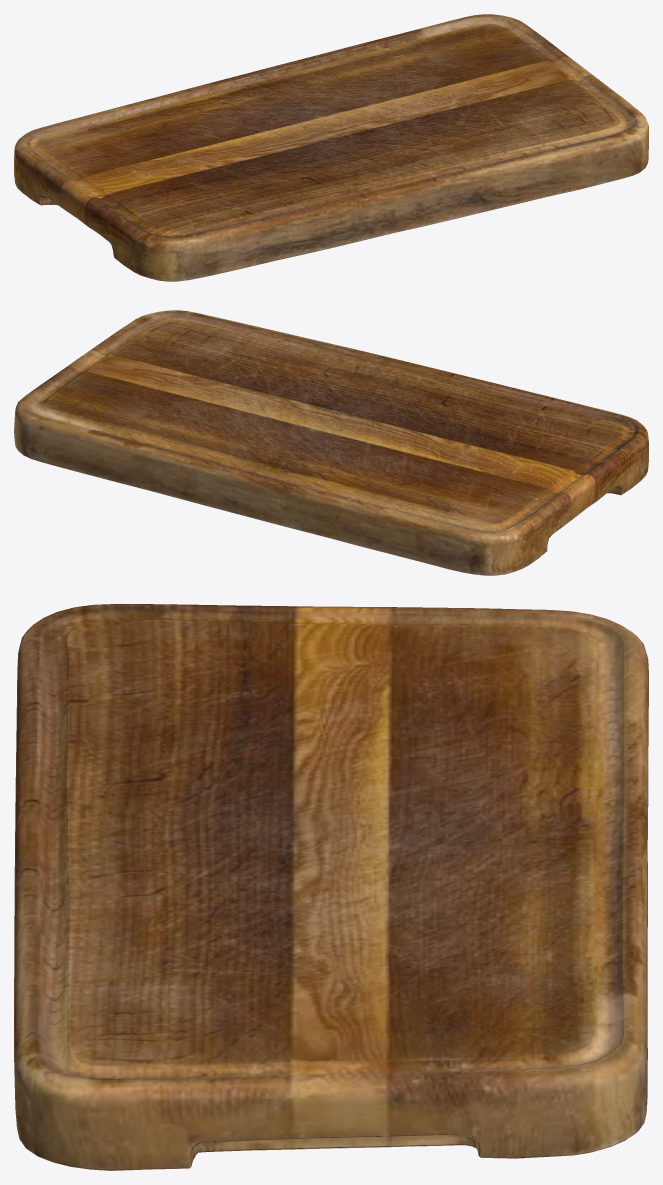
The model's file is wooden_cutting_board.glb.
3 renders of one model, top to bottom at view 1: azimuth 30°, elevation 25°; view 2: azimuth 150°, elevation 25°; view 3: azimuth 270°, elevation 25°, orthographic. The views are drawn at different scales.
Parts seen in each view (by area): view 1: wooden_cutting_board; view 2: wooden_cutting_board; view 3: wooden_cutting_board.
Boxes of the visible parts, left/top/right/bottom form: wooden_cutting_board: left=14, top=14, right=648, bottom=281; wooden_cutting_board: left=14, top=310, right=648, bottom=575; wooden_cutting_board: left=14, top=604, right=648, bottom=1170.
Bounding box in the file's own units: 0.4499 × 0.0412 × 0.2466.
Materials: 1 (1 with a texture image).
